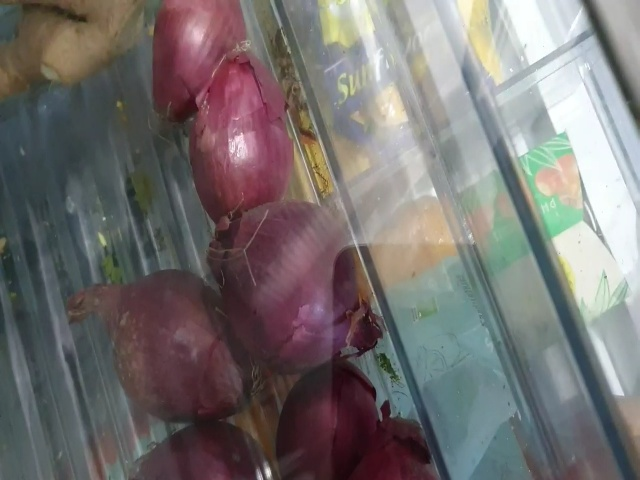red_onion: (208, 208, 384, 366), (64, 266, 243, 418), (189, 50, 289, 223), (261, 365, 378, 480), (145, 2, 237, 125)
